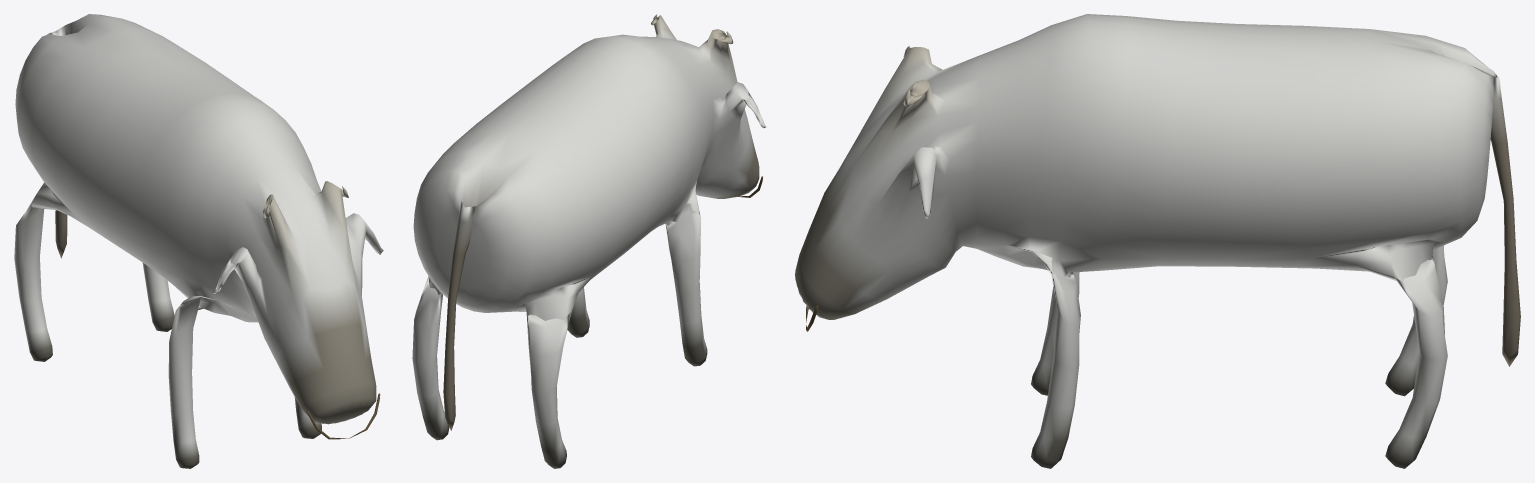
The model's file is cattle-0.glb.
The picture shows the model from 3 angles, left to right: view 1: azimuth 30°, elevation 25°; view 2: azimuth 150°, elevation 25°; view 3: azimuth 270°, elevation 25°; orthographic projection. The views are drawn at different scales.
Visible parts, largest first — view 1: cattle; view 2: cattle; view 3: cattle.
Boxes of the visible parts, bbox=[...] form: cattle: bbox=[14, 14, 383, 468]; cattle: bbox=[412, 14, 766, 468]; cattle: bbox=[795, 14, 1520, 468].
Size of the model in its own units: 0.5909 by 1.08 by 1.73.
